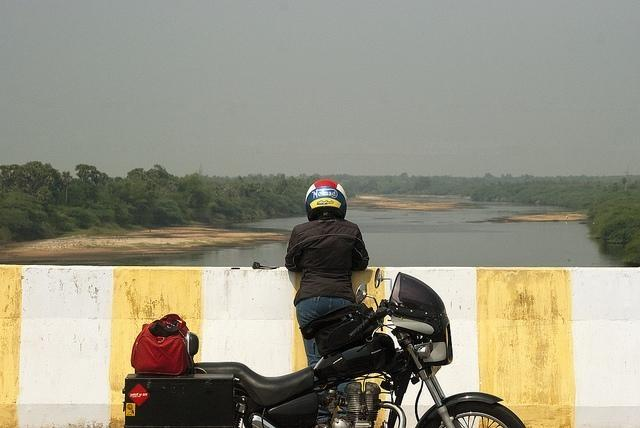motorcycle: (122, 272, 522, 423)
